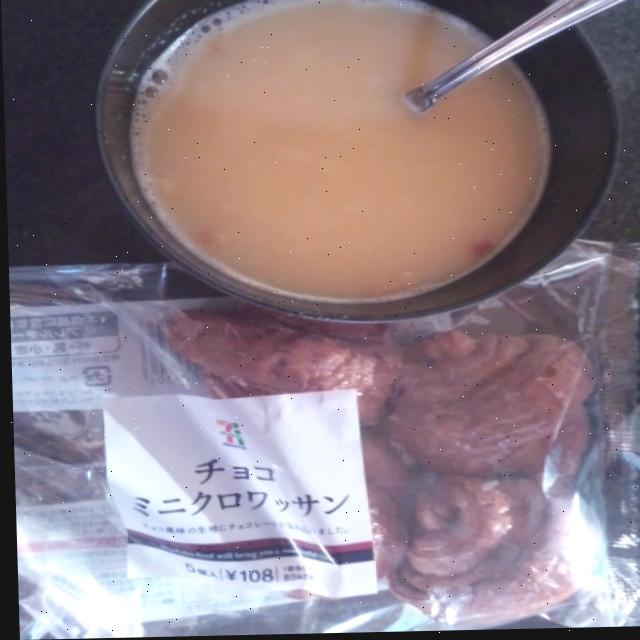汤锅炖物: (101, 0, 623, 311)
面包点心: (133, 312, 614, 632)
